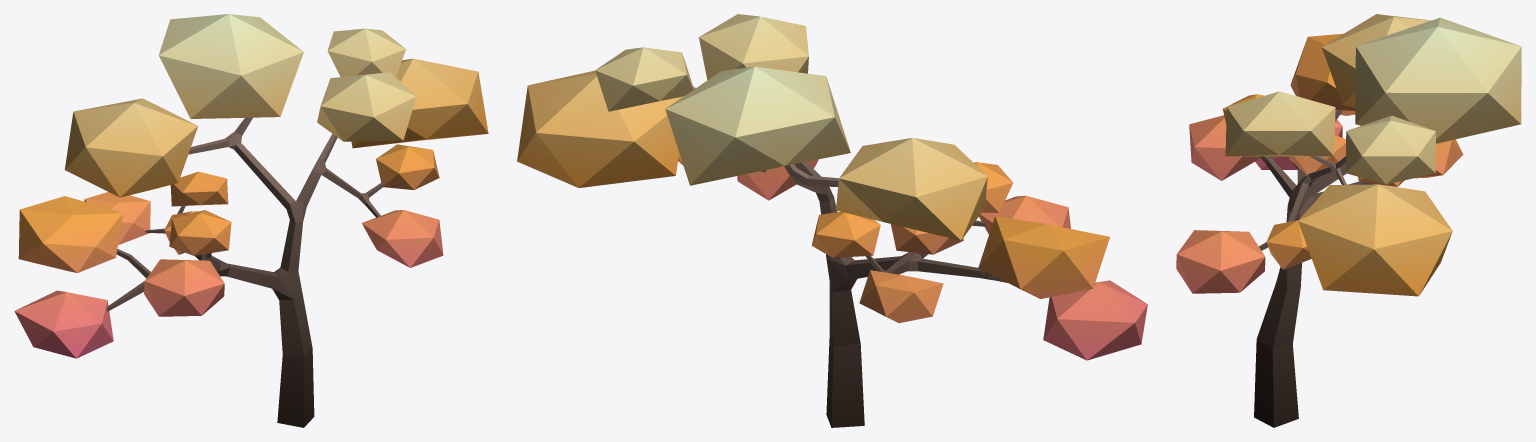
The model's file is Maple Tree.fbx.
The picture shows the model from 3 angles, left to right: view 1: azimuth 30°, elevation 25°; view 2: azimuth 150°, elevation 25°; view 3: azimuth 270°, elevation 25°; orthographic projection. The views are drawn at different scales.
Parts seen in each view (by area): view 1: Maple Tree Joined; view 2: Maple Tree Joined; view 3: Maple Tree Joined.
Part boxes in pixels (box(x1,y1,x2,y2)): Maple Tree Joined: box(14, 14, 488, 427); Maple Tree Joined: box(517, 14, 1147, 427); Maple Tree Joined: box(1176, 14, 1521, 427).
Size of the model in its own units: 9392 by 6452 by 5125.
